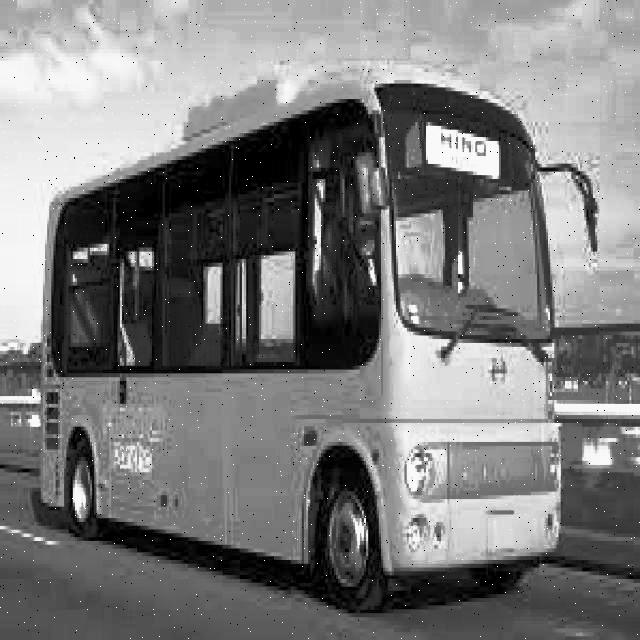Bus: (32, 43, 586, 621)
